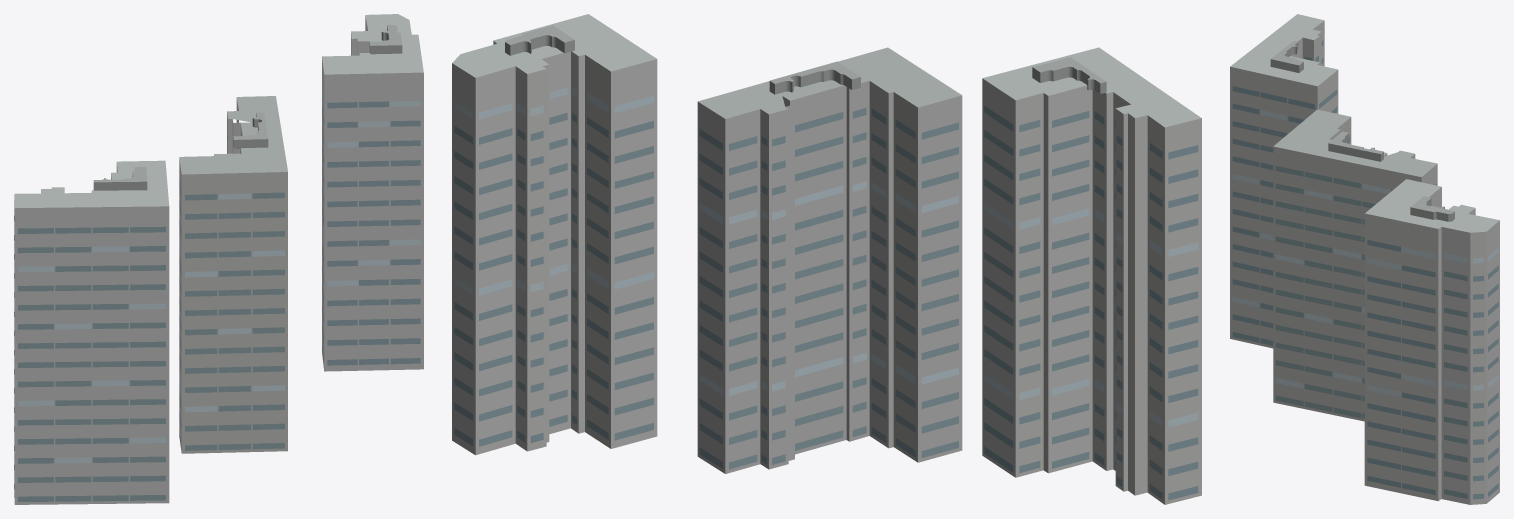
File: apt-a13707009.glb
3 views of the same model, side by side, from view 1: azimuth 30°, elevation 25°; view 2: azimuth 150°, elevation 25°; view 3: azimuth 270°, elevation 25° (orthographic). The views are drawn at different scales.
Visible parts, largest first — view 1: apt-a13707009; view 2: apt-a13707009; view 3: apt-a13707009.
Boxes of the visible parts, bbox=[...] form: apt-a13707009: bbox=[14, 14, 423, 504]; apt-a13707009: bbox=[452, 14, 1201, 504]; apt-a13707009: bbox=[1230, 14, 1499, 504].
Size of the model in its own units: 146 by 87 by 76.03.
